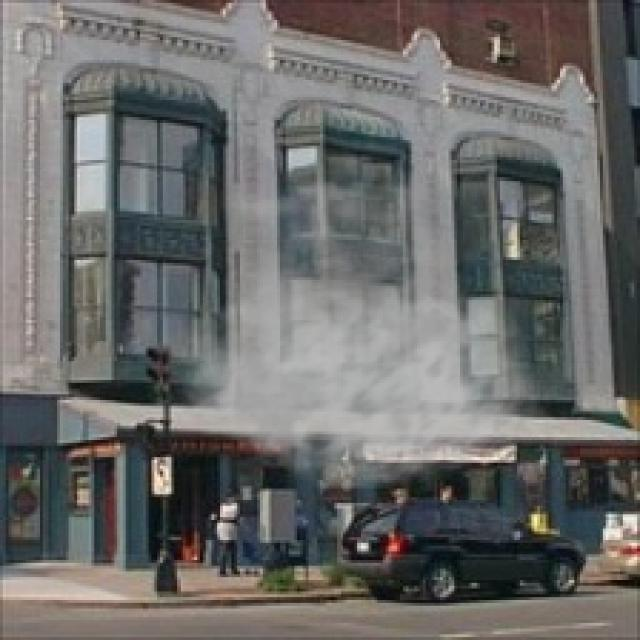smoke: (148, 148, 552, 492)
